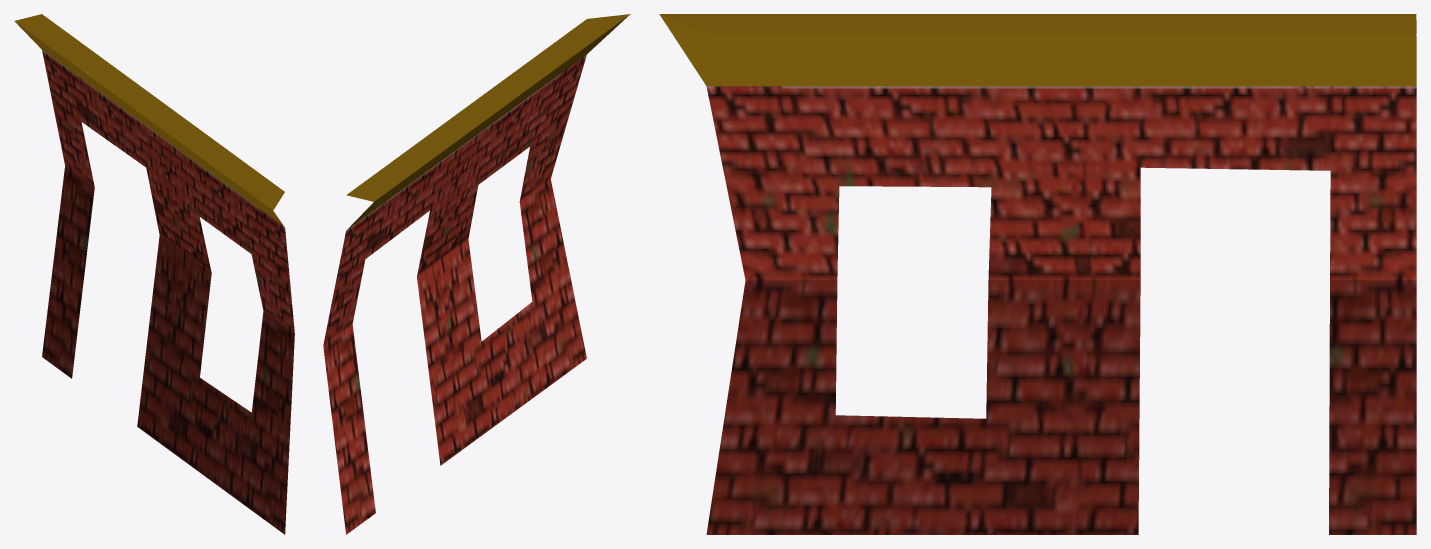
3 views of the same model, side by side, from view 1: azimuth 30°, elevation 25°; view 2: azimuth 150°, elevation 25°; view 3: azimuth 270°, elevation 25° (orthographic). The views are drawn at different scales.
Parts seen in each view (by area): view 1: pPlaneShape1, polySurfaceShape1185; view 2: pPlaneShape1, polySurfaceShape1185; view 3: pPlaneShape1, polySurfaceShape1185.
Part boxes in pixels (x1=…): pPlaneShape1: x1=42, y1=50, x2=294, y2=534; polySurfaceShape1185: x1=14, y1=14, x2=284, y2=227; pPlaneShape1: x1=323, y1=54, x2=586, y2=534; polySurfaceShape1185: x1=346, y1=14, x2=630, y2=229; pPlaneShape1: x1=706, y1=86, x2=1416, y2=534; polySurfaceShape1185: x1=659, y1=14, x2=1416, y2=86.
Bounding box in the file's own units: 0.0607 × 0.3891 × 0.5333.
Materials: 2 (1 with a texture image).
